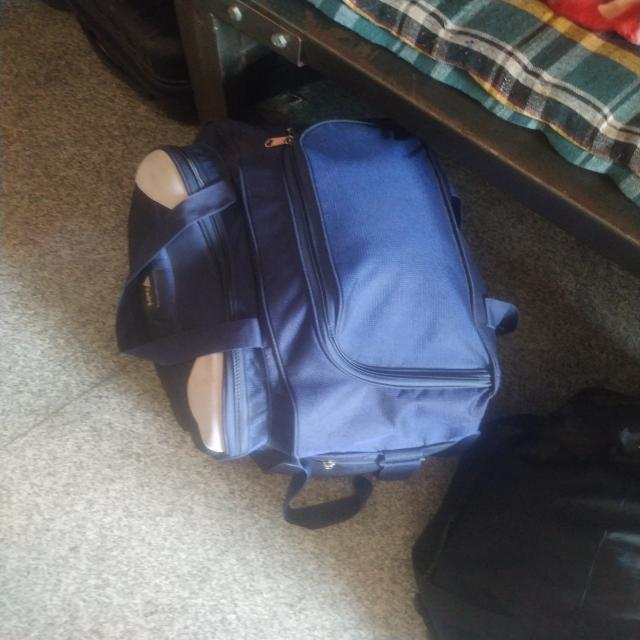suitcaserotation: (108, 115, 522, 532), (406, 383, 640, 639)
